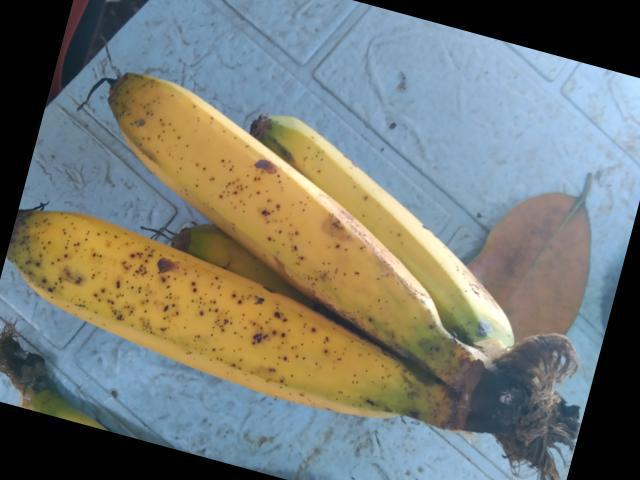ripe: (100, 61, 454, 352), (25, 213, 460, 412)
